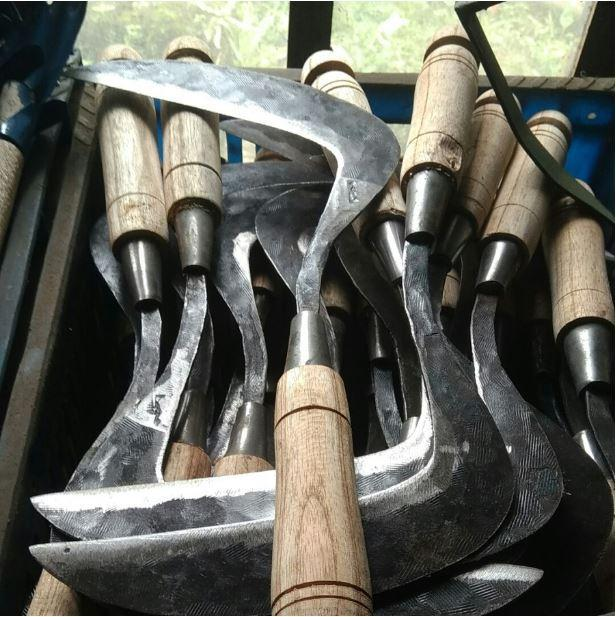foice: (21, 29, 515, 611), (74, 60, 399, 614)
